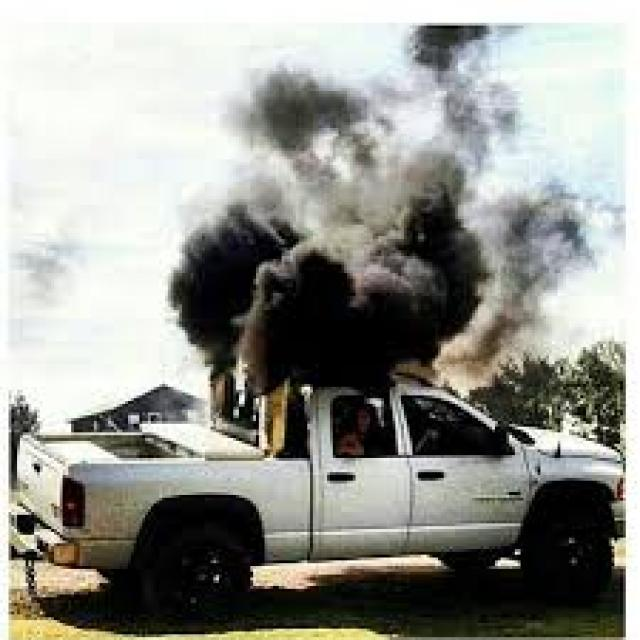Smoke: (134, 19, 624, 384)
